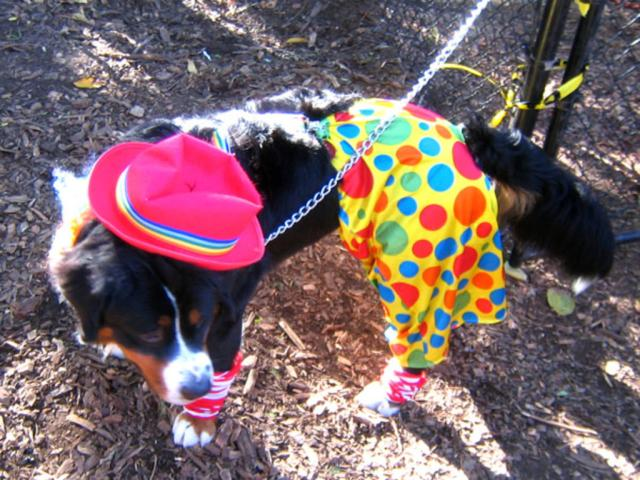Dog: (50, 87, 615, 448)
